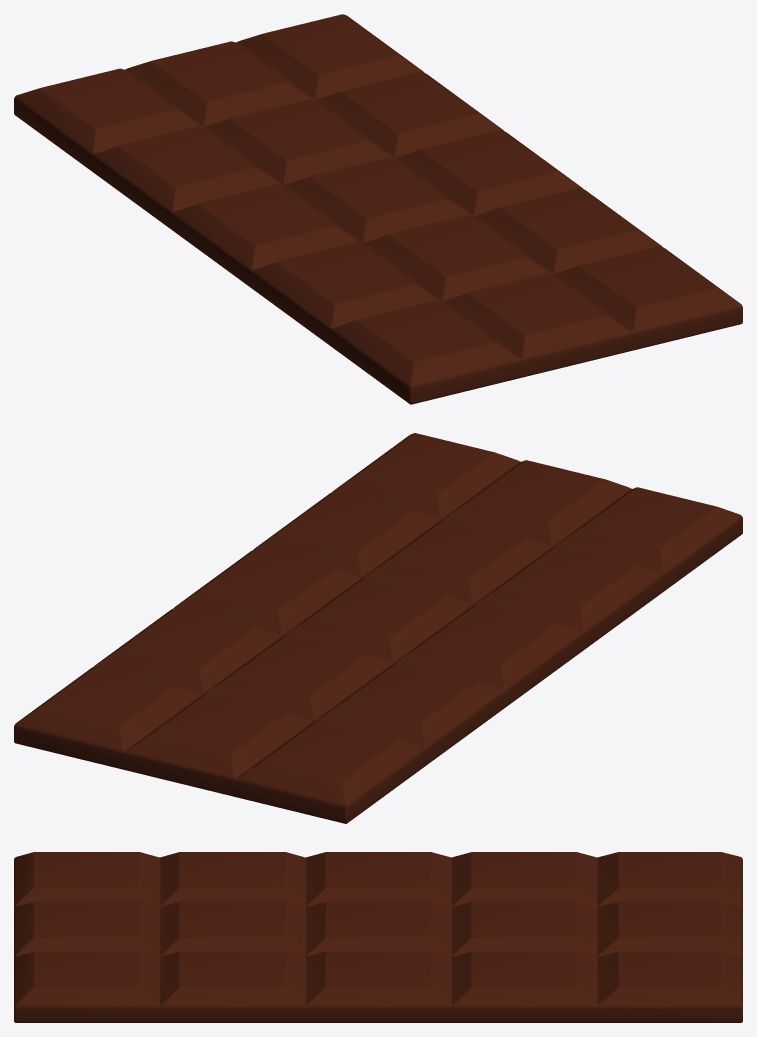
The model's file is chocolate.glb.
The picture shows the model from 3 angles, top to bottom: view 1: azimuth 30°, elevation 25°; view 2: azimuth 150°, elevation 25°; view 3: azimuth 270°, elevation 25°; orthographic projection. The views are drawn at different scales.
Visible parts, largest first — view 1: Chocolate; view 2: Chocolate; view 3: Chocolate.
Part boxes in pixels (bbox=[...]): Chocolate: bbox=[14, 14, 742, 404]; Chocolate: bbox=[14, 433, 742, 823]; Chocolate: bbox=[14, 852, 742, 1022].
Size of the model in its own units: 7.52 by 0.6892 by 15.51.
